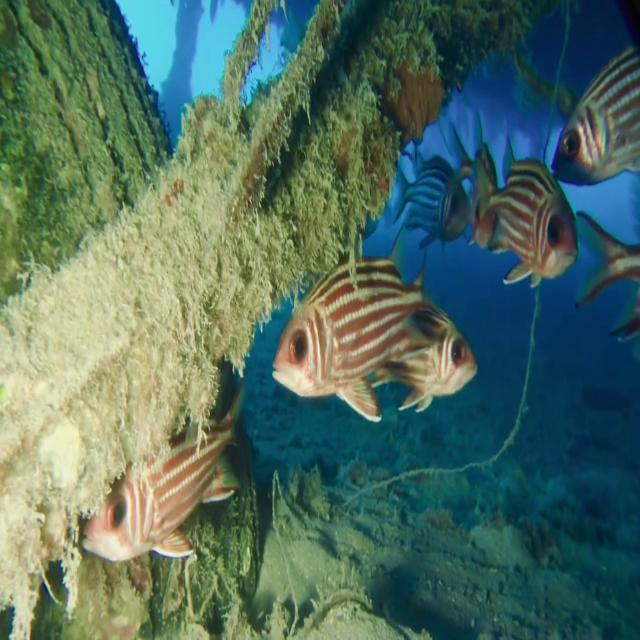Asker Baligi: (271, 249, 478, 424), (80, 374, 246, 566), (454, 154, 578, 288)
